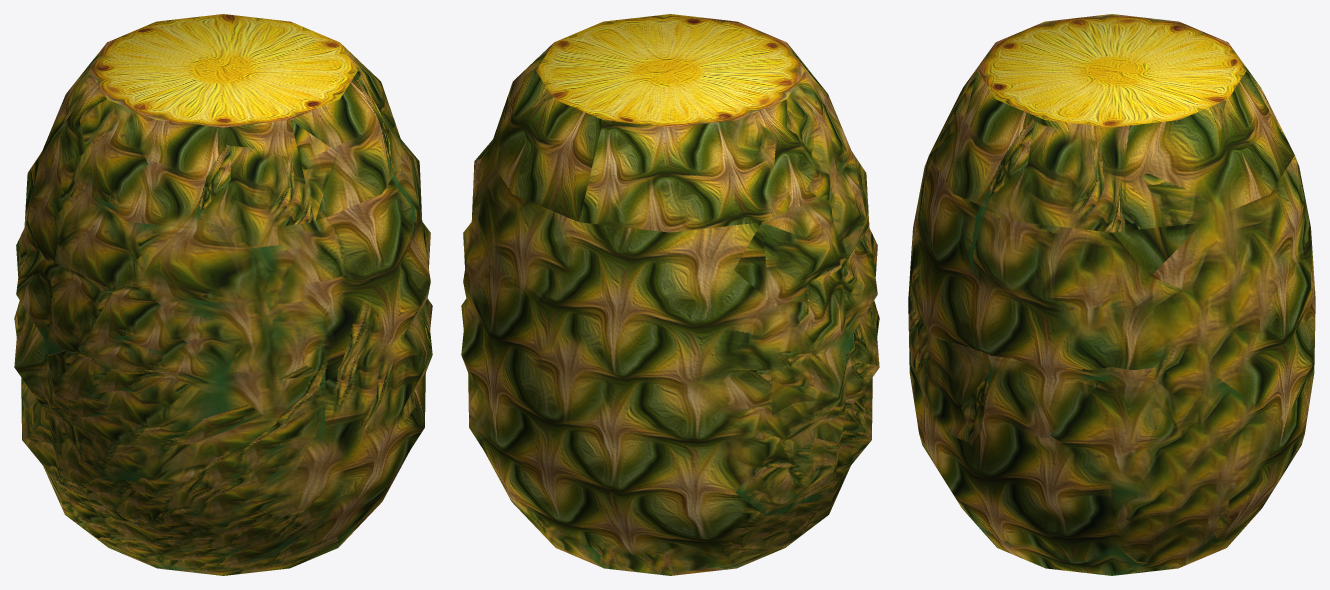
The model's file is pineapple.fbx.
3 renders of one model, left to right at view 1: azimuth 30°, elevation 25°; view 2: azimuth 150°, elevation 25°; view 3: azimuth 270°, elevation 25°, orthographic.
Visible parts, largest first — view 1: Pineapple; view 2: Pineapple; view 3: Pineapple.
Boxes of the visible parts, left/top/right/bottom form: Pineapple: left=14, top=14, right=432, bottom=575; Pineapple: left=461, top=14, right=879, bottom=575; Pineapple: left=908, top=14, right=1315, bottom=575.
Bounding box in the file's own units: 0.2203 × 0.2354 × 0.2678.
1 material, 1 textured.
